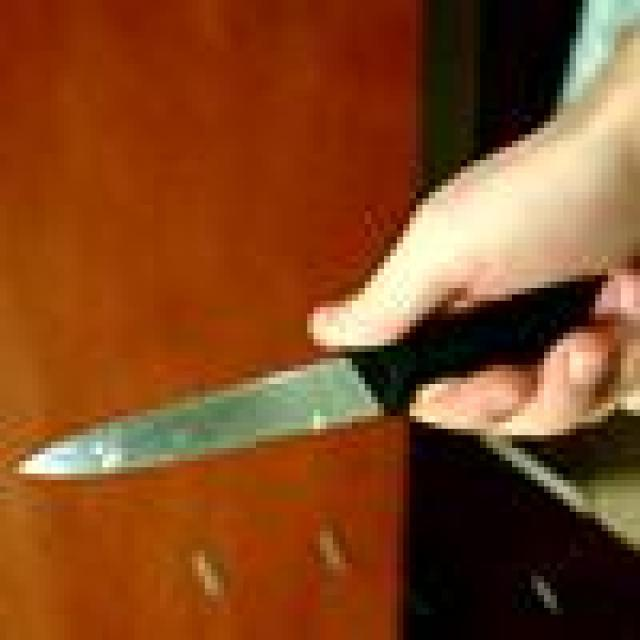faca: (0, 147, 640, 506)
